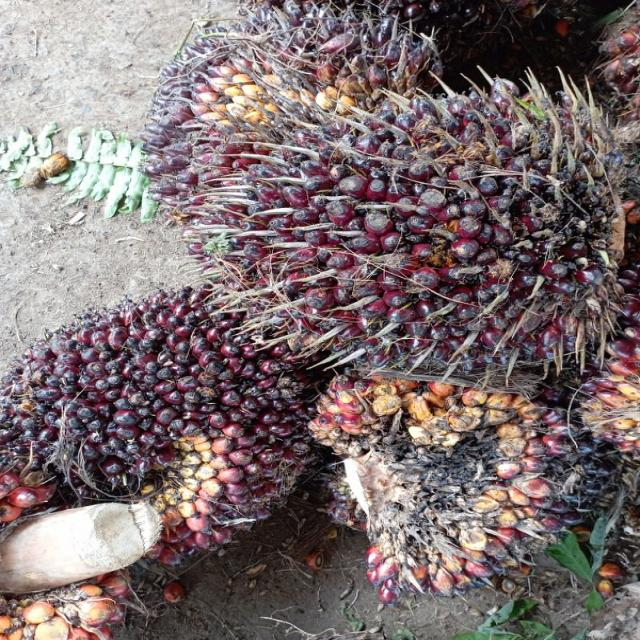fraksi 00: (323, 348, 603, 601)
fraksi 1: (210, 80, 628, 357), (0, 280, 321, 548)
